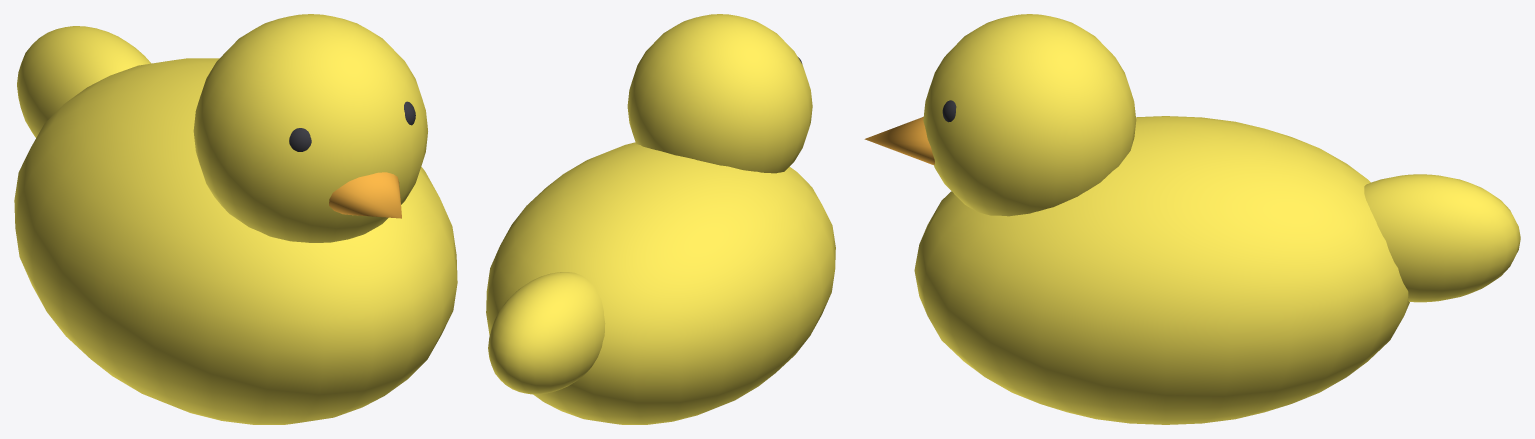
Rendered from duck.glb.
3 renders of one model, left to right at view 1: azimuth 30°, elevation 25°; view 2: azimuth 150°, elevation 25°; view 3: azimuth 270°, elevation 25°, orthographic. The views are drawn at different scales.
Visible parts, largest first — view 1: duck; view 2: duck; view 3: duck.
Part boxes in pixels (x1=…): duck: x1=14, y1=14, x2=457, y2=424; duck: x1=486, y1=14, x2=835, y2=424; duck: x1=864, y1=14, x2=1520, y2=424.
Size of the model in its own units: 1.24 by 1.42 by 2.22.
